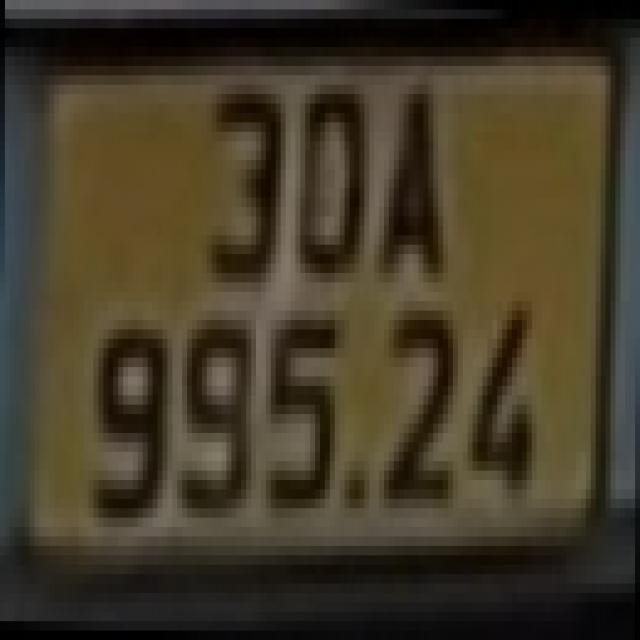2: (384, 301, 458, 508)
3: (207, 85, 286, 282)
4: (468, 292, 542, 508)
5: (266, 301, 340, 508)
9: (89, 310, 168, 518), (177, 310, 251, 518)
A: (374, 75, 448, 282)
D: (296, 75, 370, 273)
